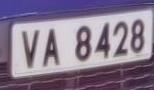2: (111, 15, 130, 64)
4: (94, 16, 113, 66)
8: (73, 21, 95, 68), (129, 16, 147, 60)
A: (42, 25, 64, 72)
V: (19, 26, 42, 72)
